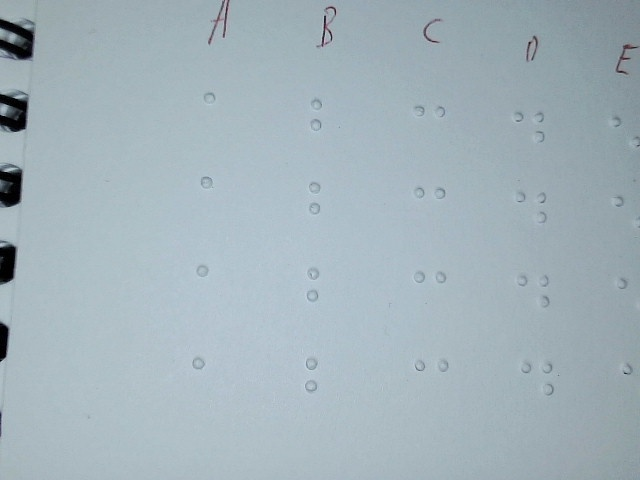A: (196, 83, 245, 154), (193, 166, 242, 237), (189, 255, 238, 326), (184, 347, 233, 418)
B: (299, 349, 346, 416), (300, 259, 347, 326), (301, 173, 348, 240), (302, 92, 349, 159)
C: (406, 96, 454, 161), (406, 178, 454, 243), (407, 262, 455, 327), (409, 351, 457, 416)
